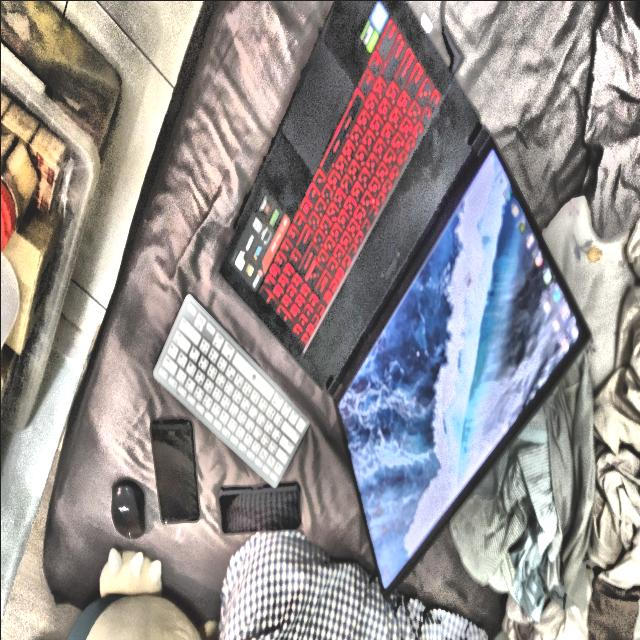Keyboard: (153, 294, 308, 486)
Laptop: (219, 0, 589, 594)
MOUSE: (111, 480, 144, 537)
PHONE: (150, 418, 200, 522), (217, 482, 300, 533)
